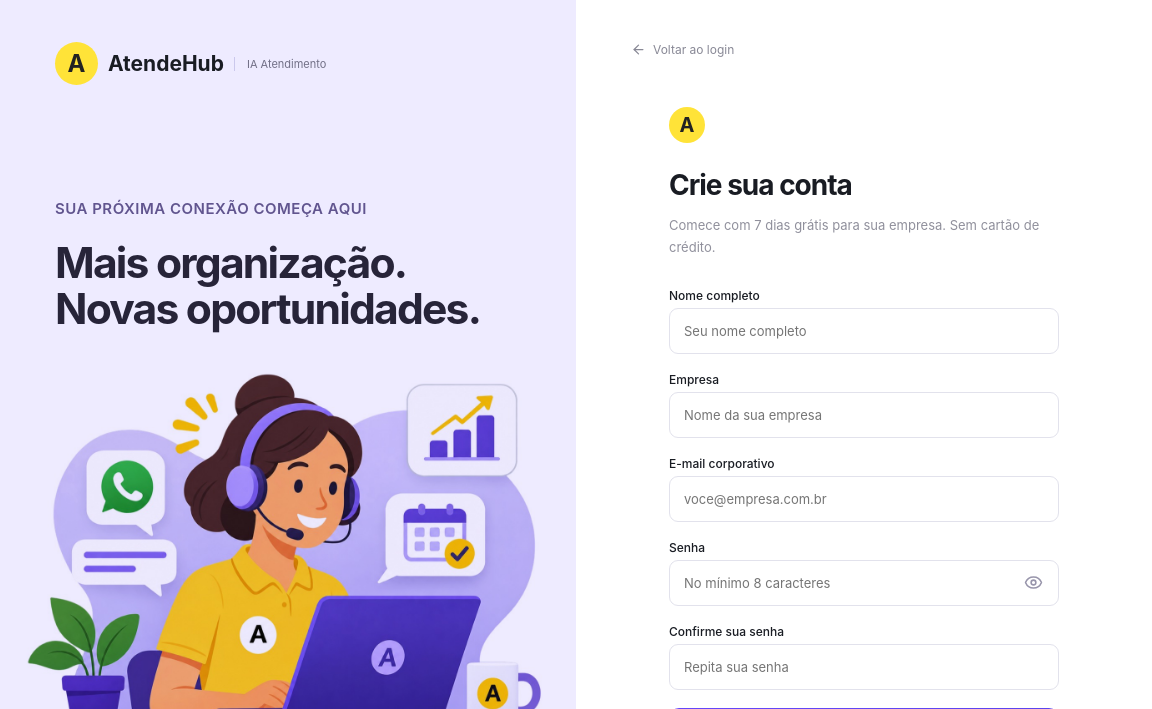
formulários reais › cadastro duplicado exibe erro sem navegar
This screenshot has width=1152, height=709.
Type "Pedro Almeida" into the field labelled "Nome completo".
click(864, 331); type("Pedro Almeida")  # box [669,308,1059,354]
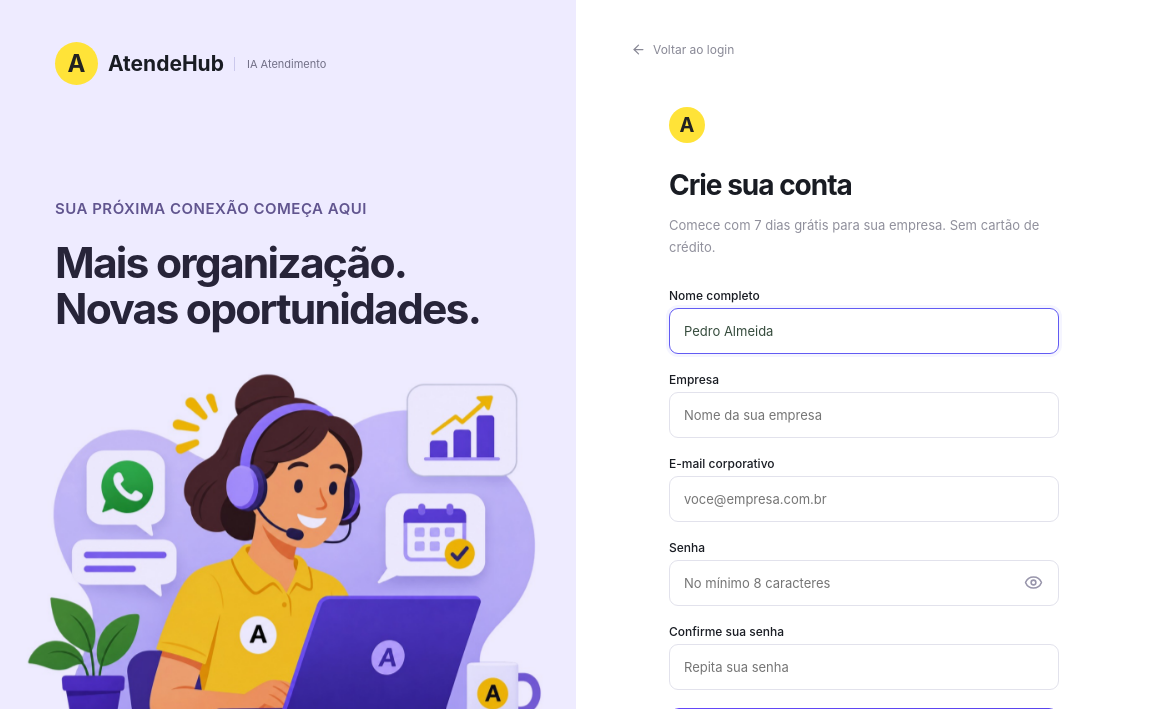
Type "Empresa Alfa" into the field labelled "Empresa".
click(864, 415); type("Empresa Alfa")  # box [669,392,1059,438]
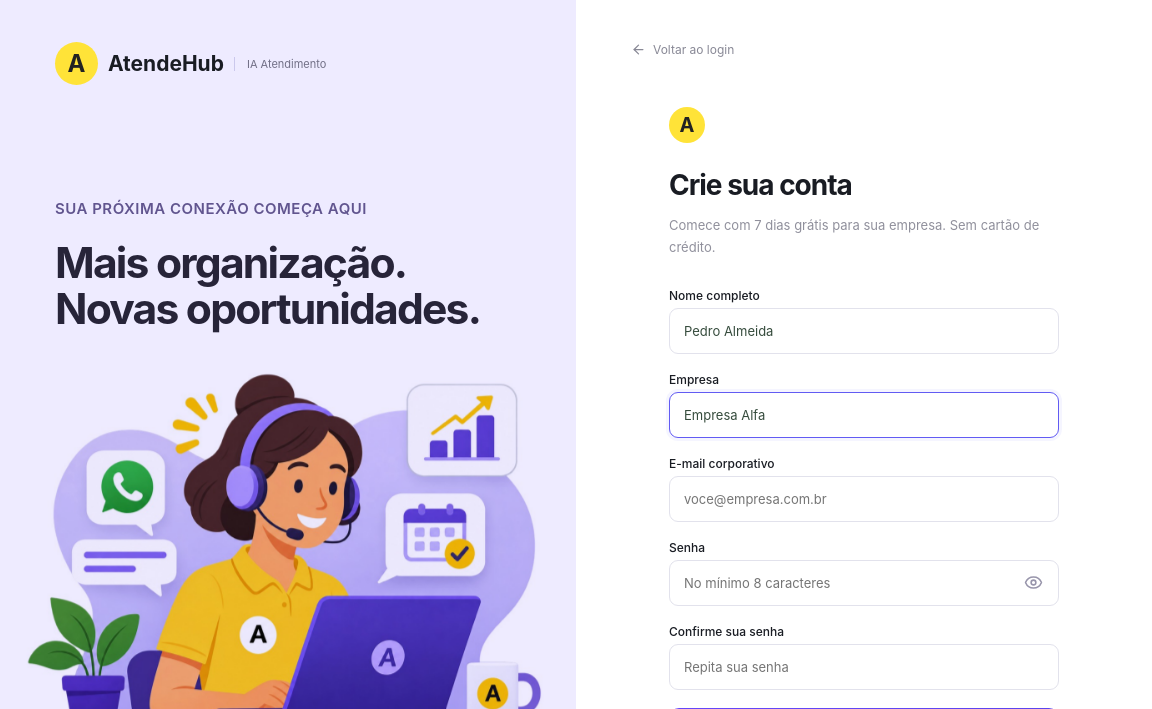
Type "pedro@example.com" into the field labelled "E-mail corporativo".
click(864, 499); type("pedro@example.com")  # box [669,476,1059,522]
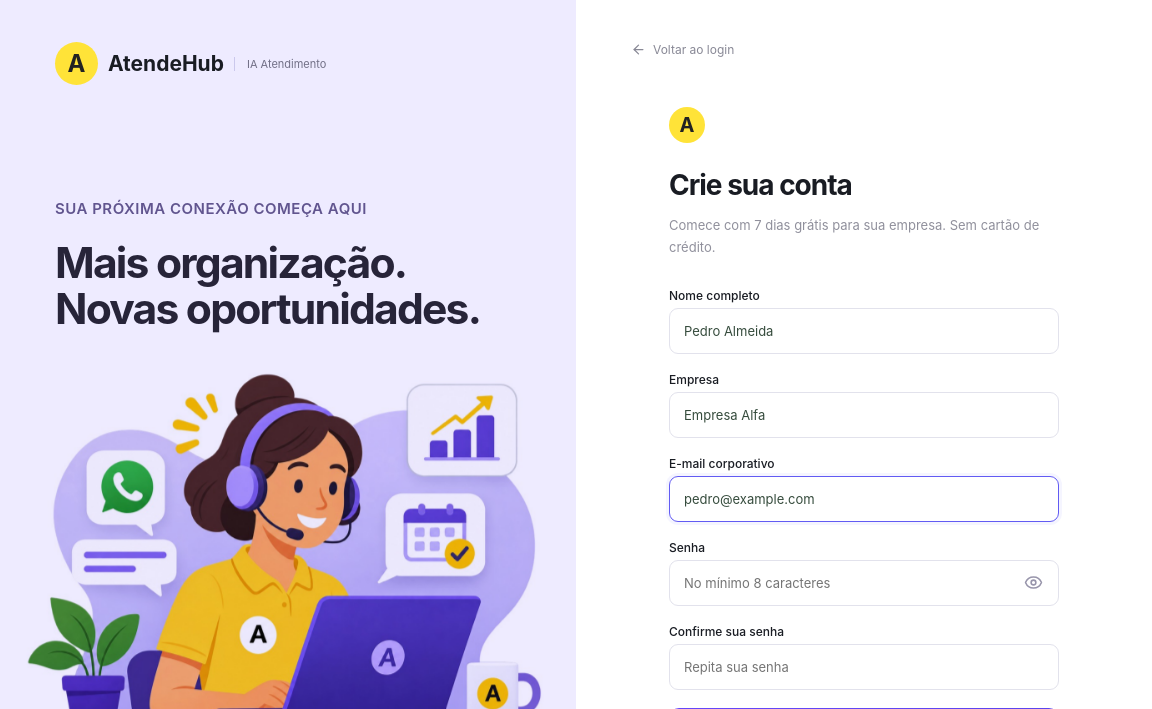
Type "Senha-teste-123" into the password field labelled "Senha".
click(864, 583); type("Senha-teste-123")  # box [669,560,1059,606]
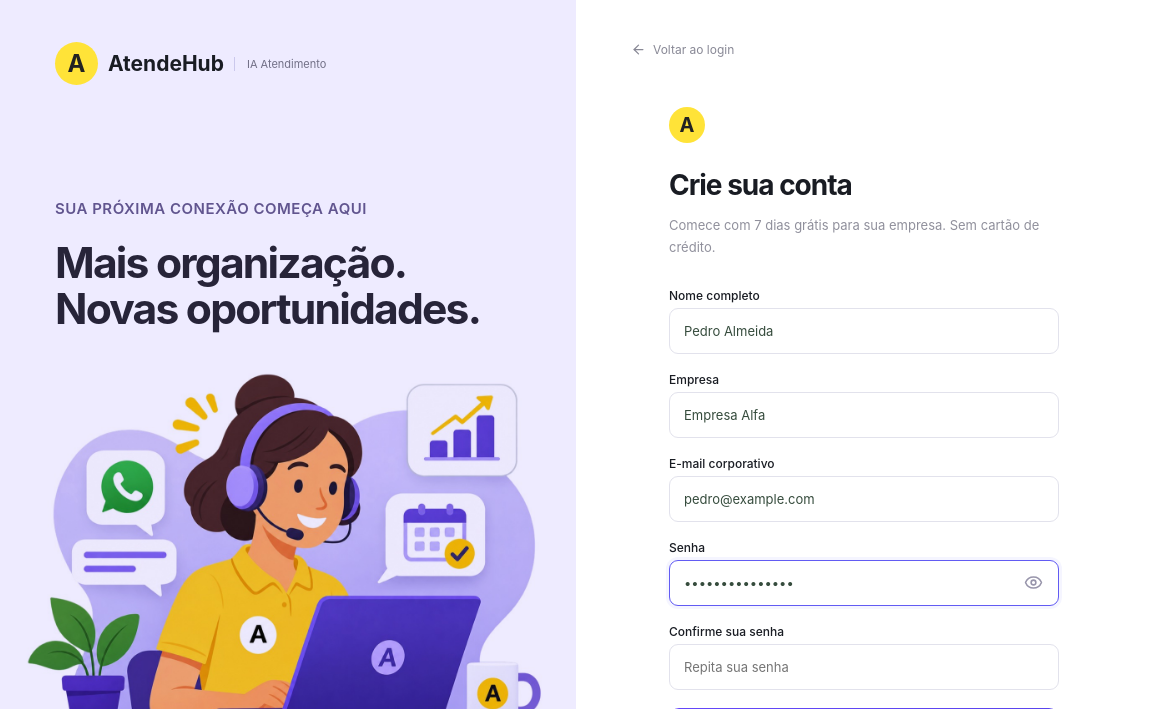
Type "Senha-teste-123" into the password field labelled "Confirme sua senha".
click(864, 667); type("Senha-teste-123")  # box [669,644,1059,690]
(page scrolled)
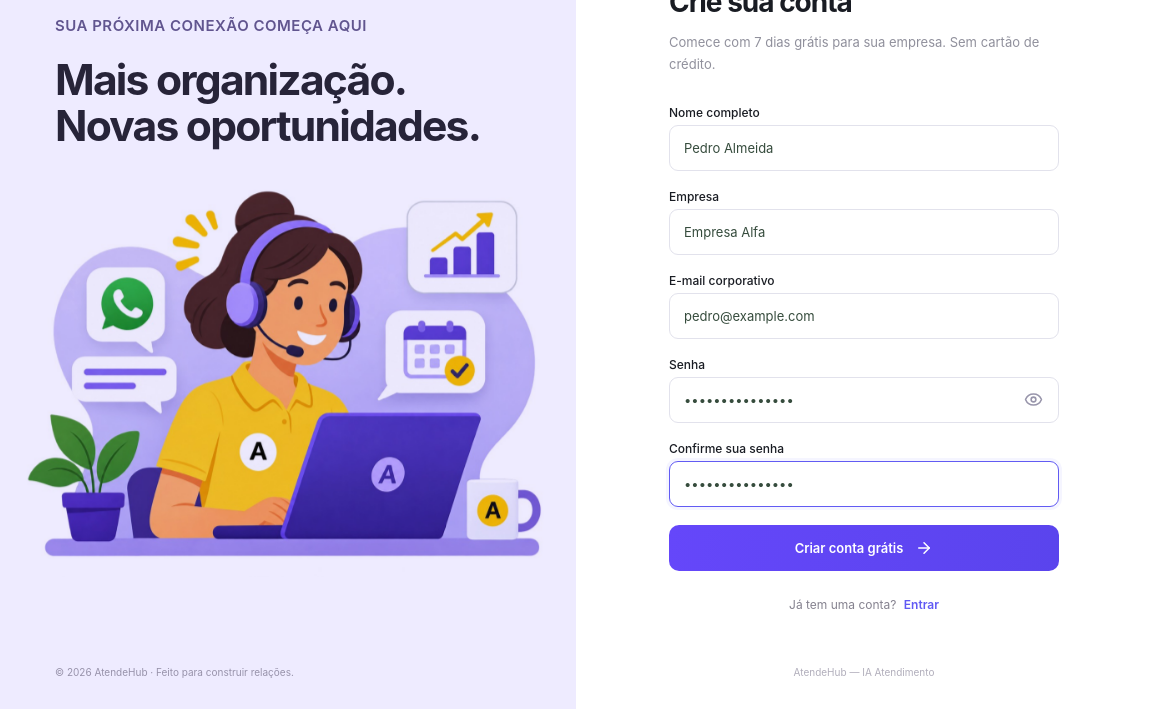
Click the button "Criar conta grátis".
click(864, 548)  # box [669,525,1059,571]
(page scrolled)
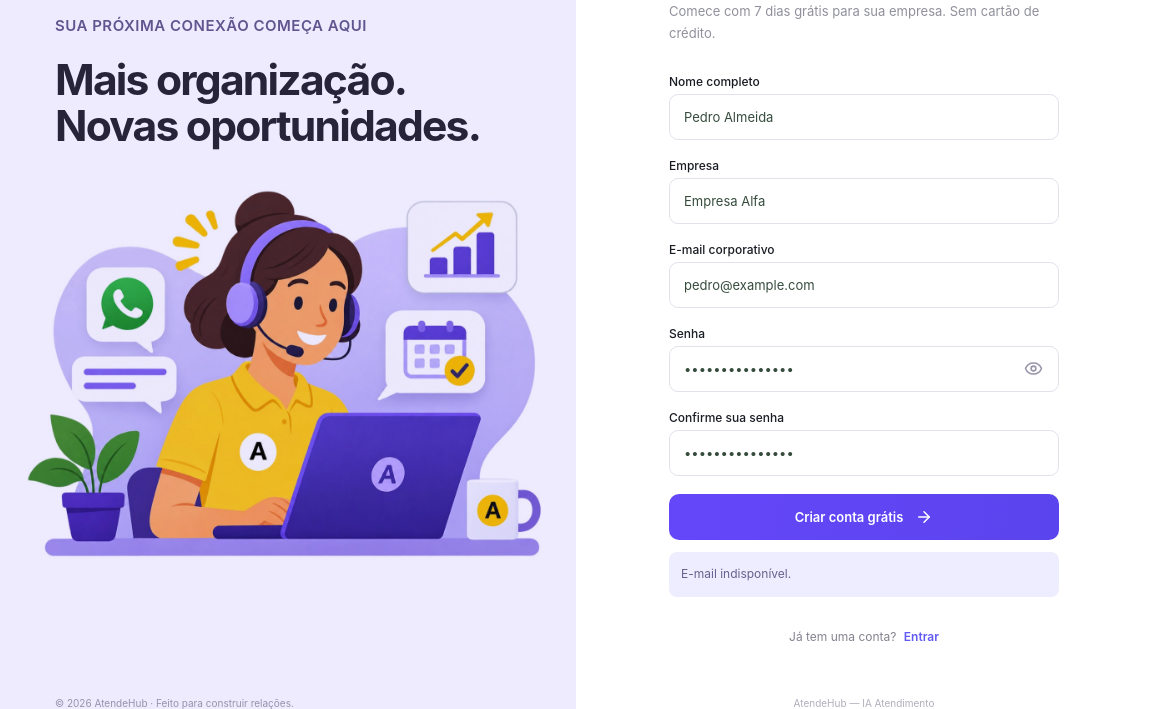
Expected: the message shows "E-mail indisponível", [681,566,791,581]
